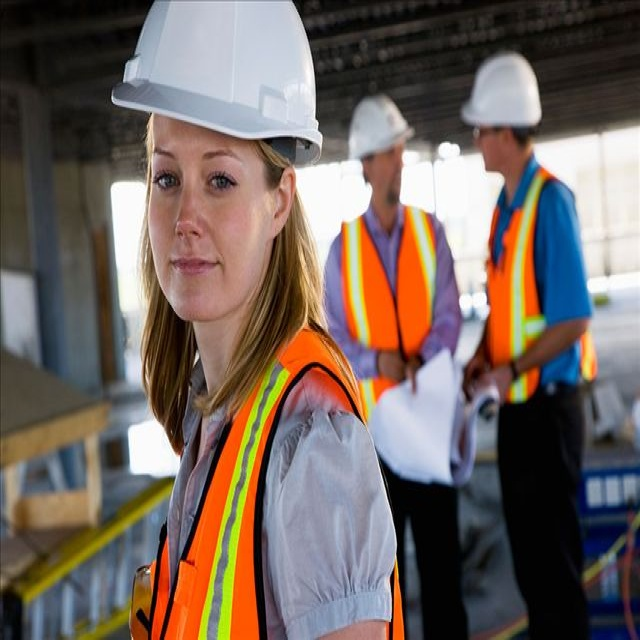Helmet: (90, 1, 340, 362), (449, 35, 555, 194), (338, 64, 426, 227)
Reflective vest: (136, 320, 407, 640), (479, 166, 609, 413), (333, 205, 459, 424)
